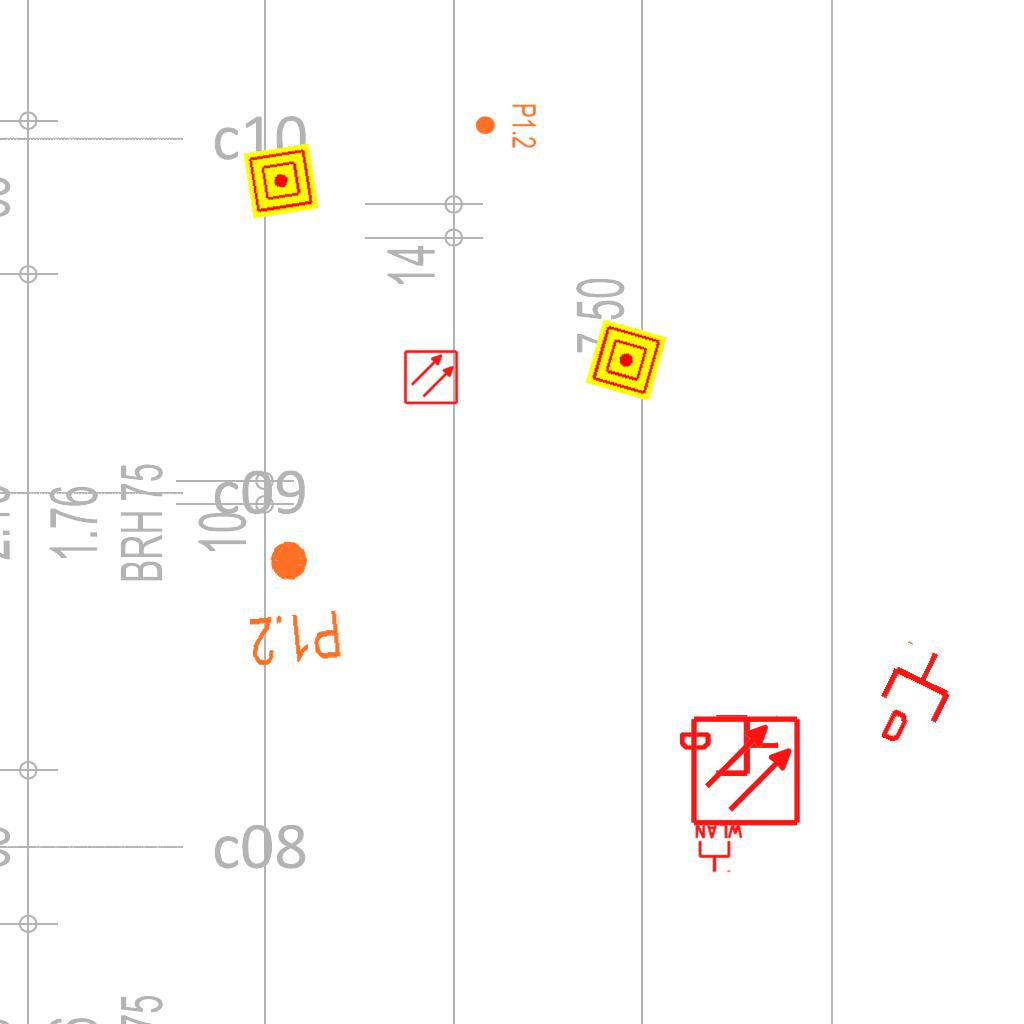Datenanschluss_einfach: (861, 636, 968, 758), (680, 711, 780, 780)
Downlight_LED_Einbauleuchten_Flur: (238, 533, 345, 671), (474, 103, 538, 149)
NAM-Nichtautomatischer_Melder: (585, 319, 667, 401), (243, 143, 319, 219)
RMO_Rauchmelder_optischer: (689, 714, 802, 827), (403, 349, 459, 405)
WLAN: (693, 822, 745, 874)
